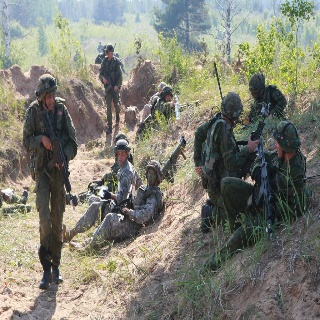rifle: (39, 106, 82, 204), (235, 112, 267, 179), (254, 137, 275, 221)
